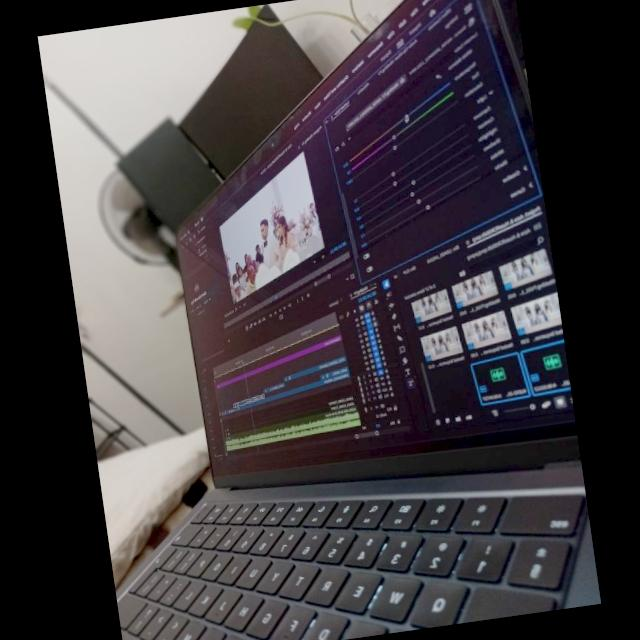laptop: (114, 48, 593, 640)
